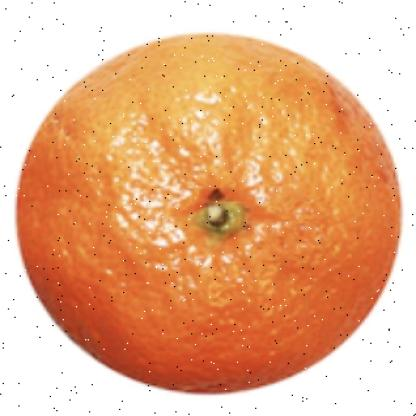fresh: (14, 36, 402, 394)
